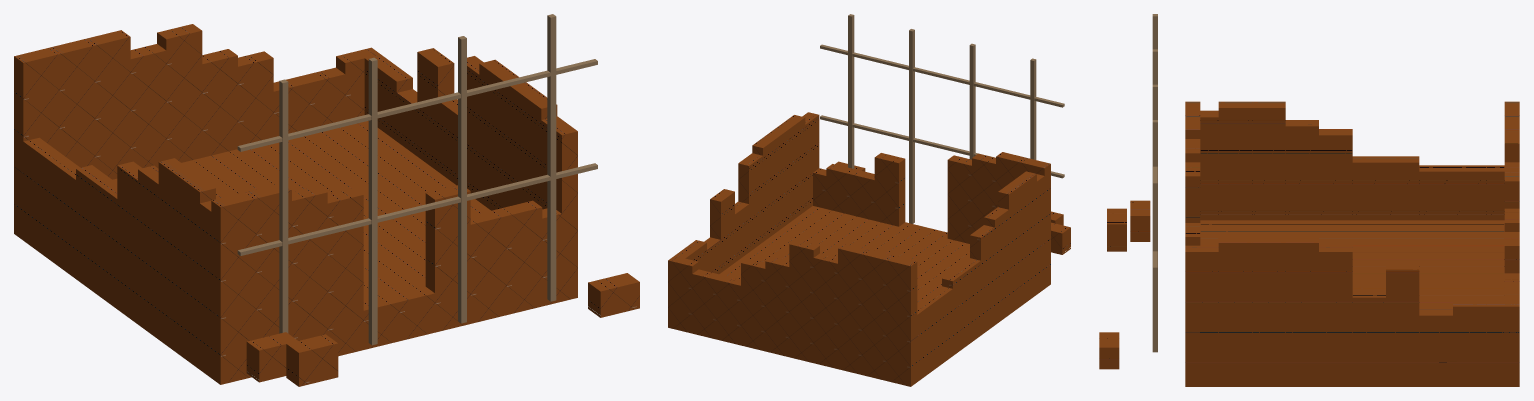
Rendered from uruk_site_d.glb.
The picture shows the model from 3 angles, left to right: view 1: azimuth 30°, elevation 25°; view 2: azimuth 150°, elevation 25°; view 3: azimuth 270°, elevation 25°; orthographic projection. The views are drawn at different scales.
Visible parts, largest first — view 1: uruk_site_d; view 2: uruk_site_d; view 3: uruk_site_d.
Boxes of the visible parts, left/top/right/bottom form: uruk_site_d: left=14, top=14, right=639, bottom=386; uruk_site_d: left=668, top=14, right=1070, bottom=386; uruk_site_d: left=1099, top=14, right=1519, bottom=386.
Bounding box in the file's own units: 10.24 × 8.19 × 12.58.
Materials: 2 (1 with a texture image).
